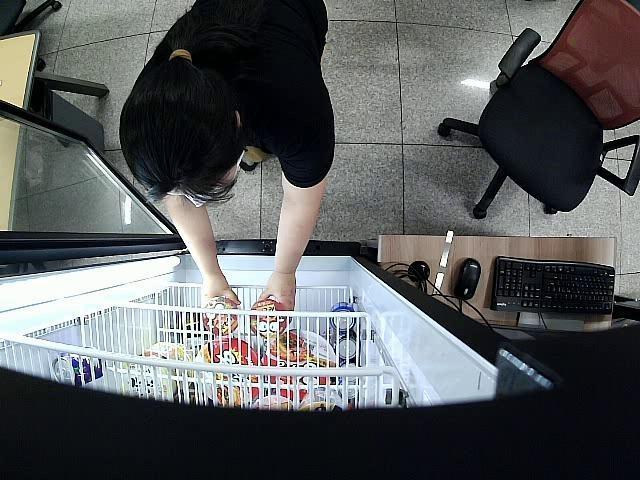06_nuguri_S: (247, 300, 292, 340), (201, 300, 238, 336)
